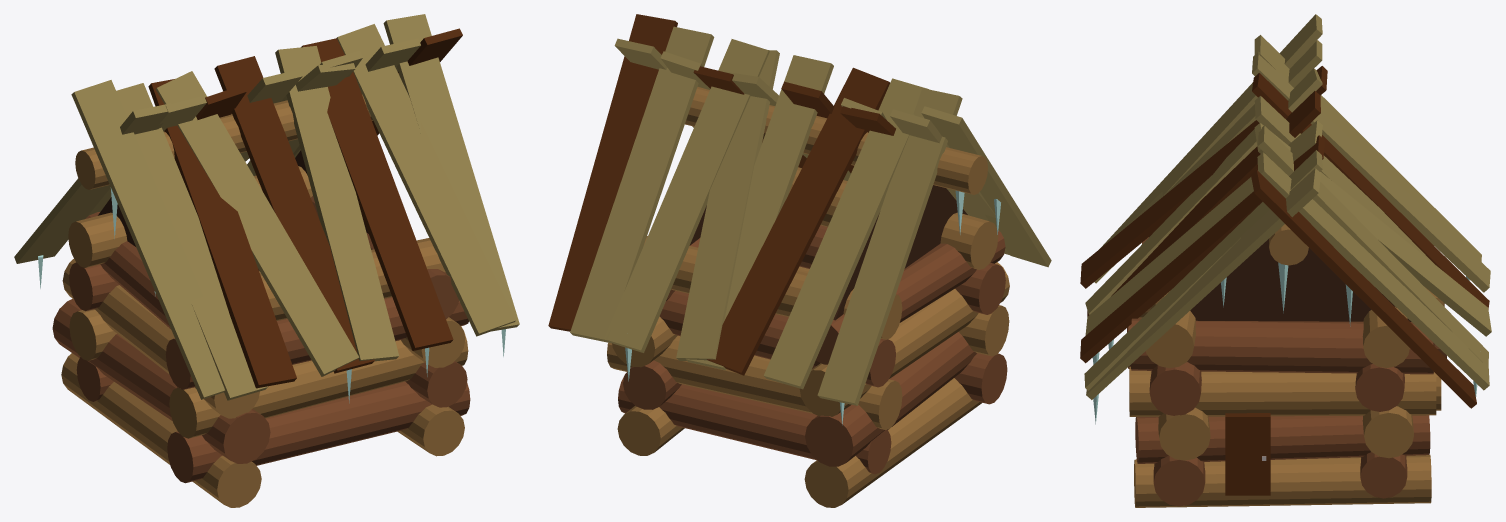
File: HouseSolidMaterial.fbx
3 views of the same model, side by side, from view 1: azimuth 30°, elevation 25°; view 2: azimuth 150°, elevation 25°; view 3: azimuth 270°, elevation 25° (orthographic).
Parts seen in each view (by area): view 1: Cone; view 2: Cone; view 3: Cone.
Boxes of the visible parts, x1,y1,x2,y2 form: Cone: (14, 14, 519, 507); Cone: (548, 14, 1051, 507); Cone: (1080, 14, 1491, 507).
Size of the model in its own units: 922 by 901 by 928.
Materials: 1 (1 with a texture image).
